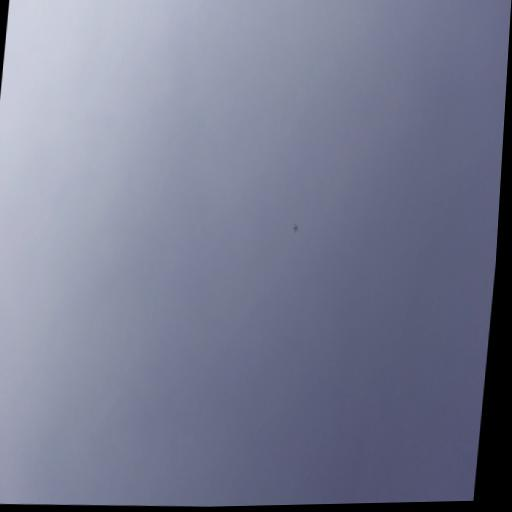drones: (292, 223, 299, 235)
